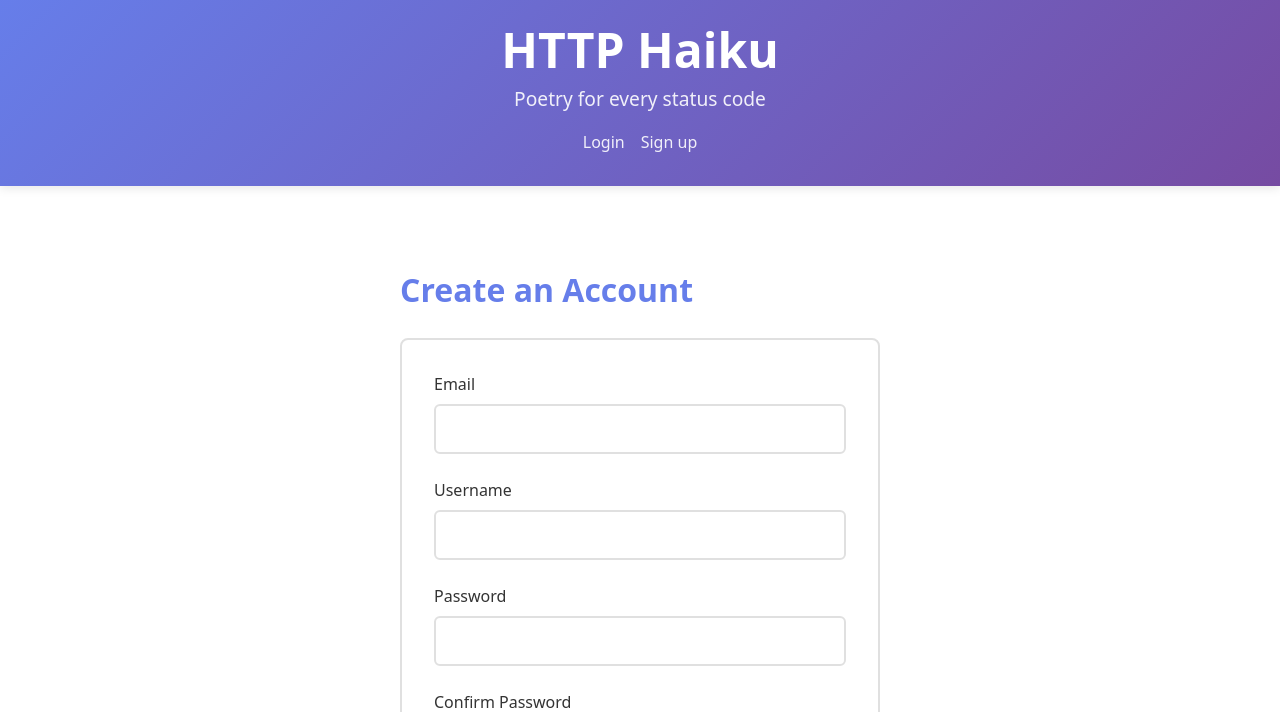
SignupPage › shows joined errors array on failure
In the field labelled "Email": (640, 429) 434,404 -> 846,454, type "existing@example.com"
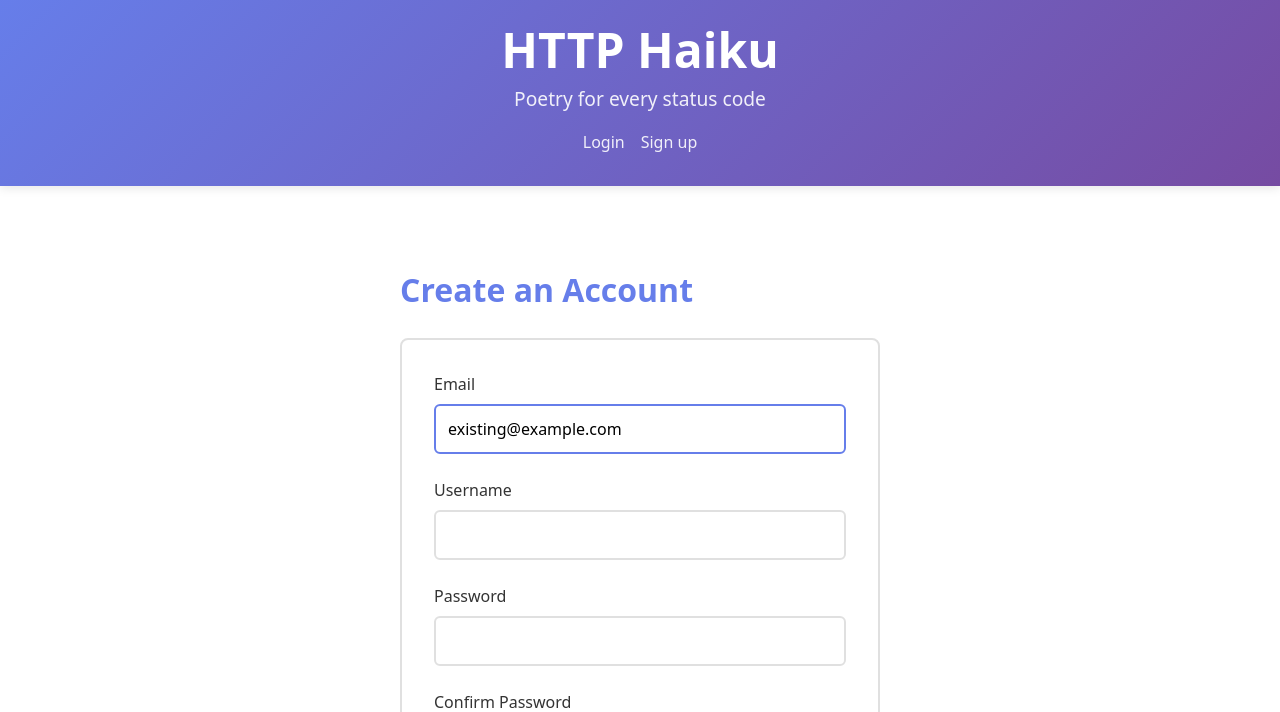
In the field labelled "Username": (640, 535) 434,510 -> 846,560, type "existinguser"
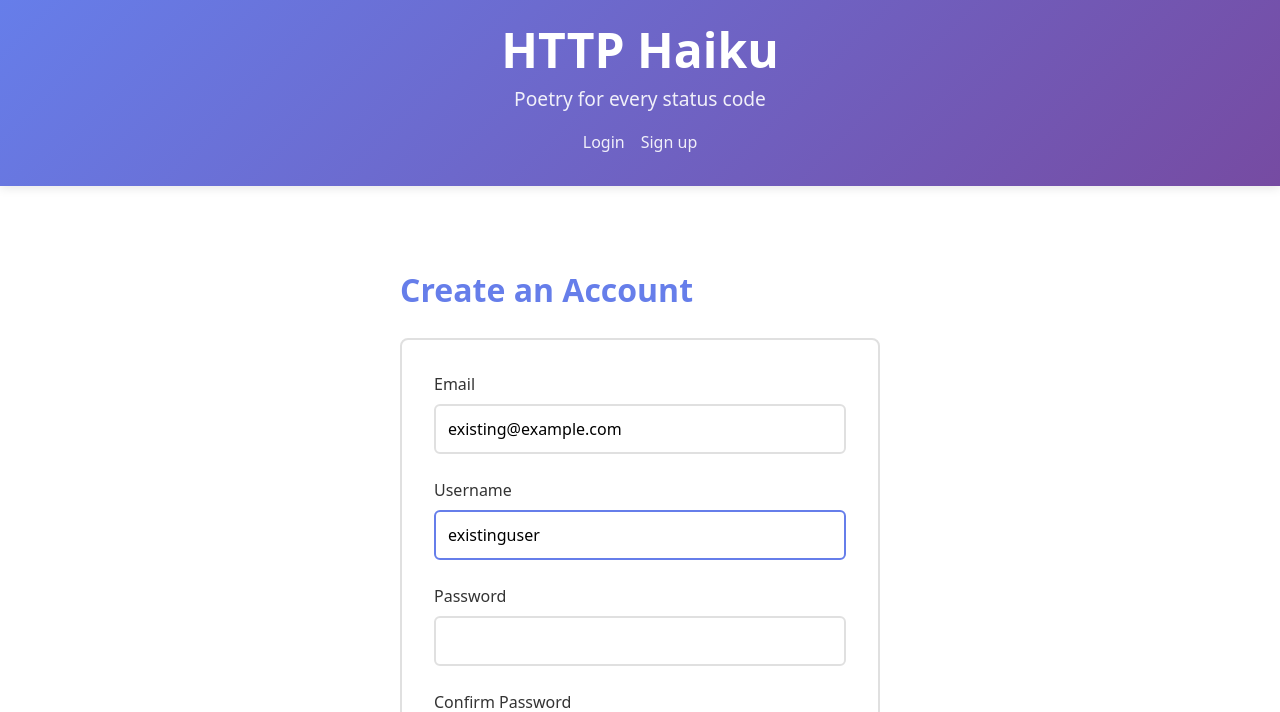
In the password field labelled "Password": (640, 641) 434,616 -> 846,666, type "password123"
(page scrolled)
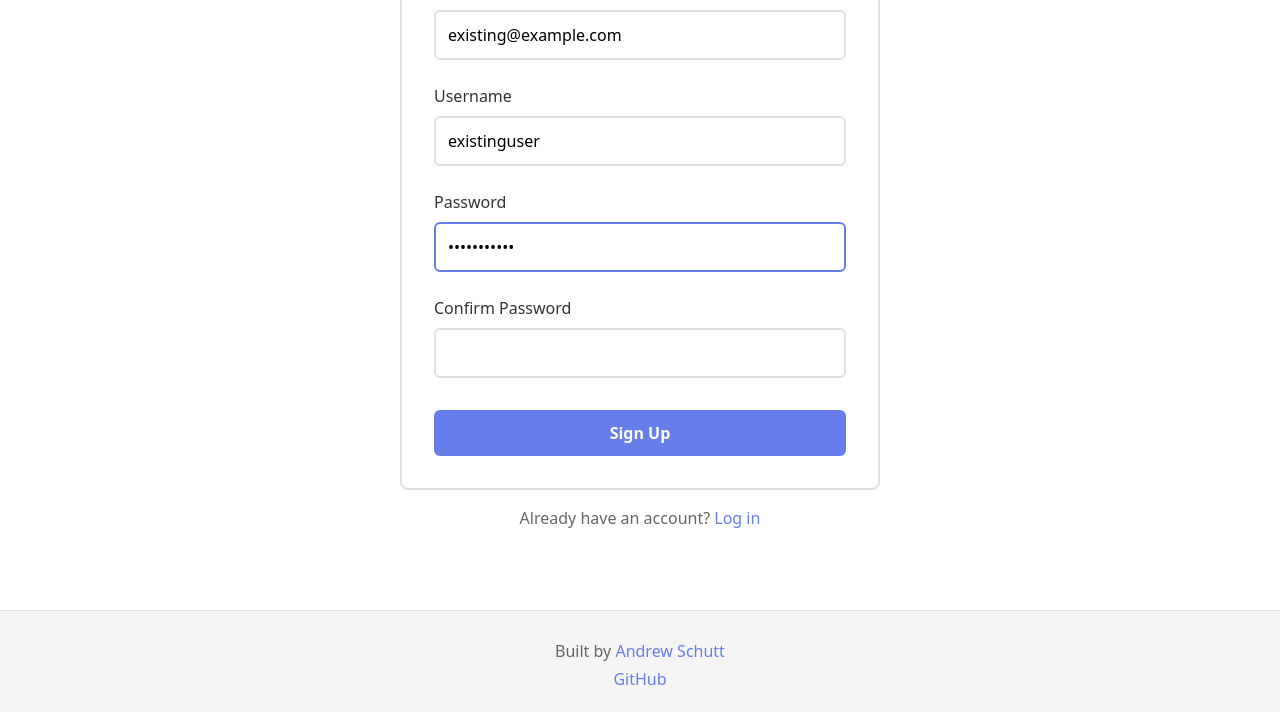
In the password field labelled "Confirm Password": (640, 353) 434,328 -> 846,378, type "password123"
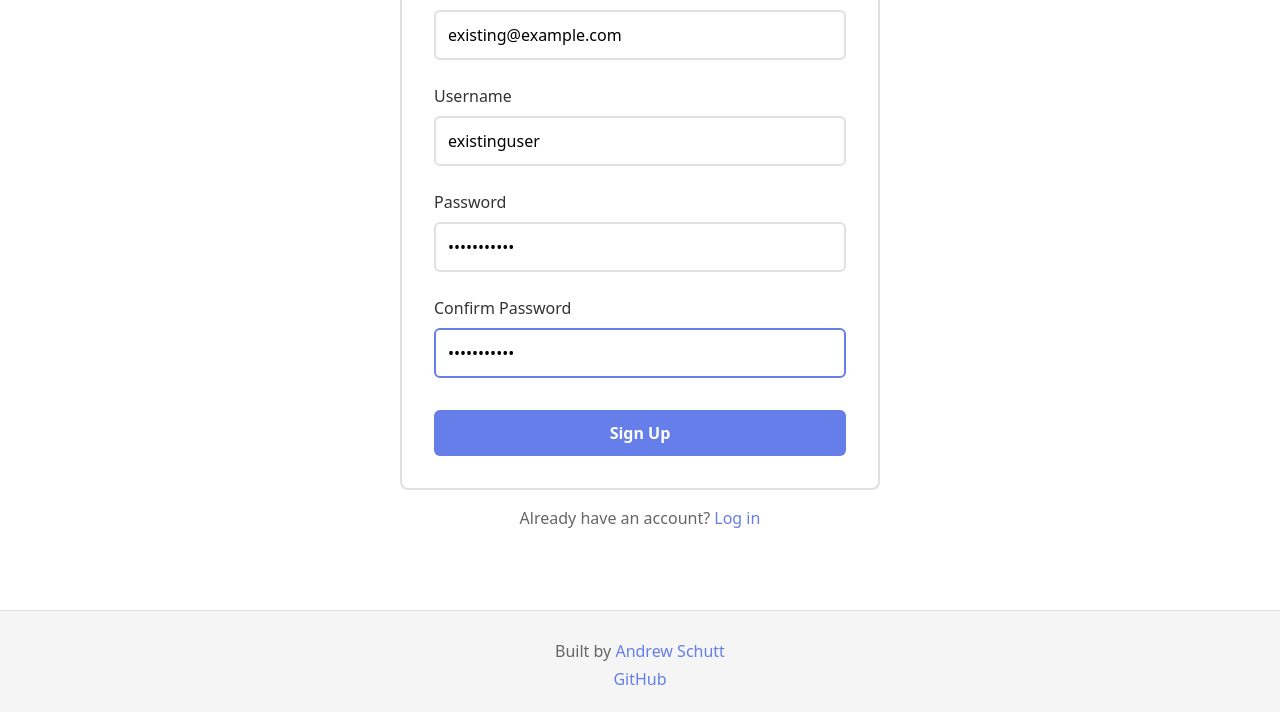
Click the button "Sign Up": (640, 433) 434,410 -> 846,456
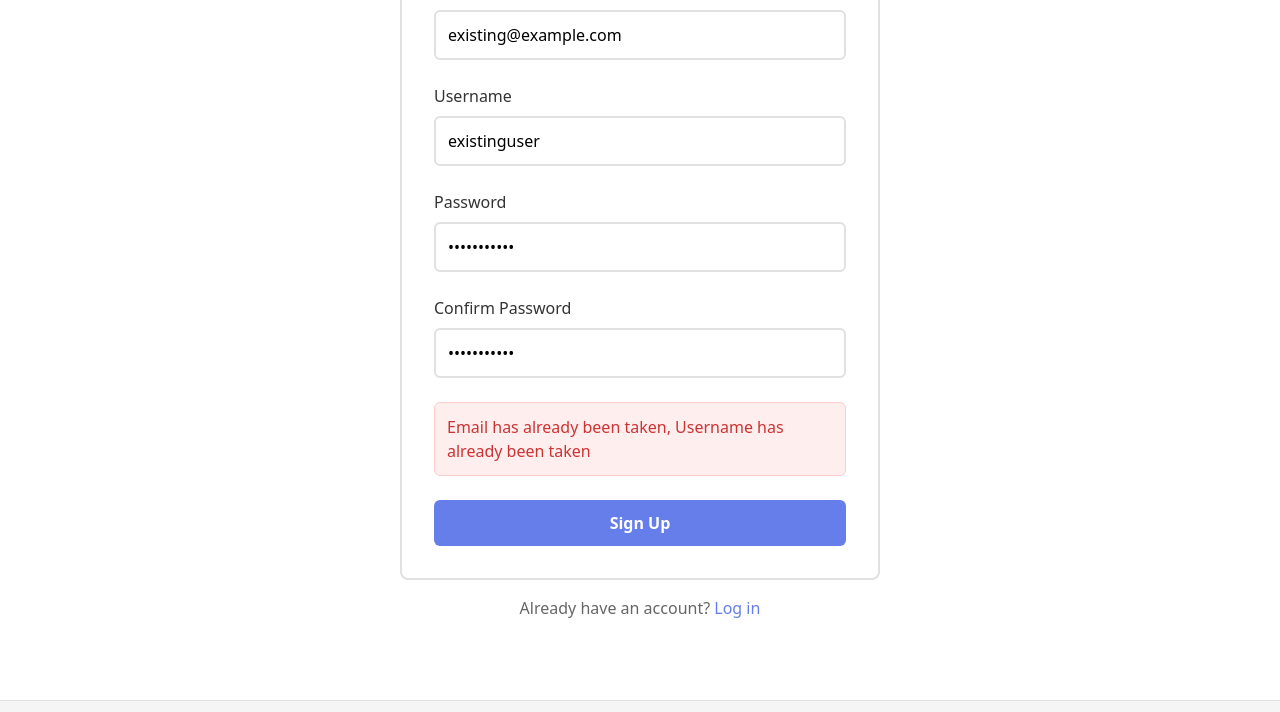
Check: the text "Email has already been taken, Username has already been taken" is shown, box 434,402 -> 846,476
